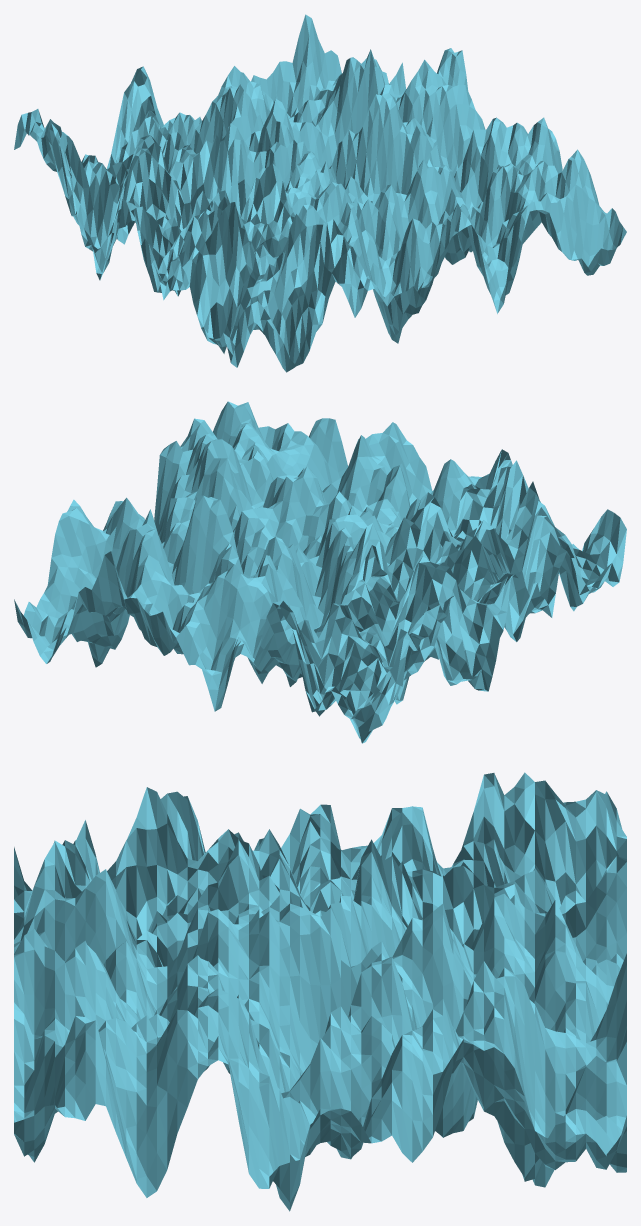
3 renders of one model, top to bottom at view 1: azimuth 30°, elevation 25°; view 2: azimuth 150°, elevation 25°; view 3: azimuth 270°, elevation 25°, orthographic. The views are drawn at different scales.
Size of the model in its own units: 4 by 1.49 by 4.
